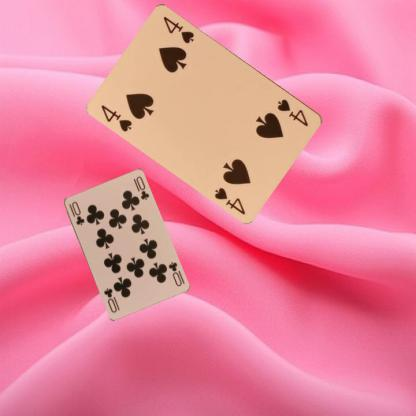10c: (66, 199, 85, 226), (165, 259, 183, 287)
4s: (275, 96, 310, 128), (99, 102, 134, 134)
